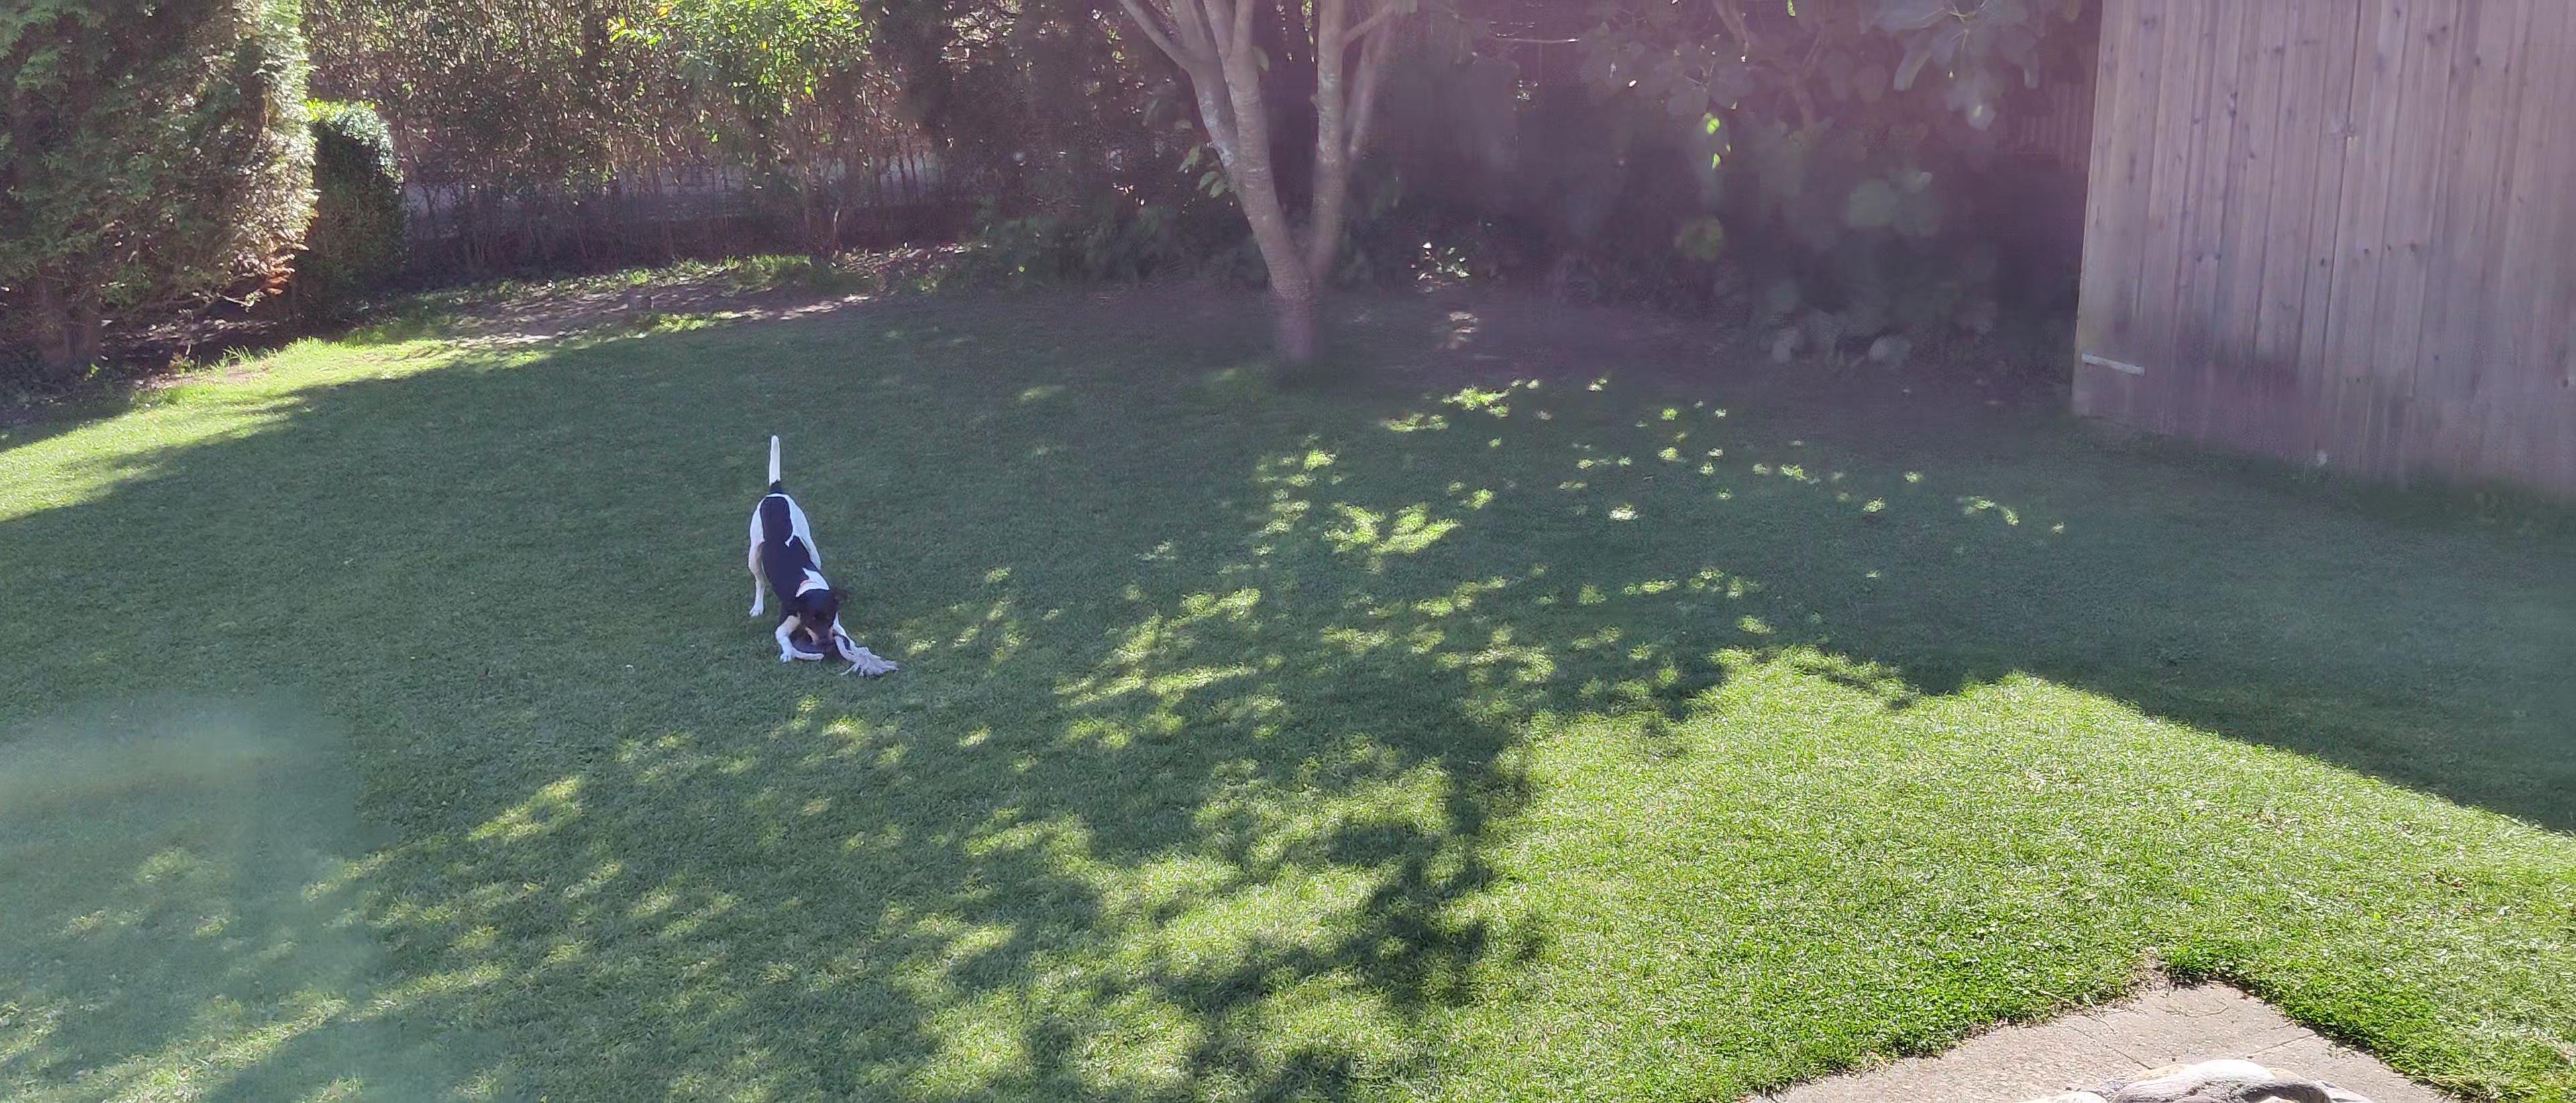Dog: (744, 429, 861, 662)
